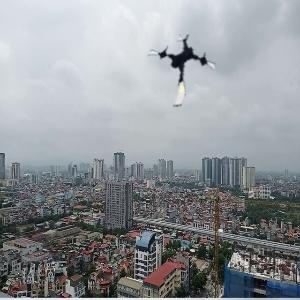drone: (142, 32, 219, 109)
